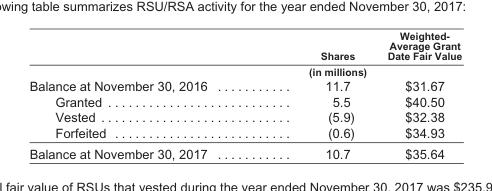table: (28, 28, 461, 160)
table column: (28, 28, 257, 160), (257, 28, 376, 160), (376, 28, 461, 160)
table column header: (28, 28, 461, 77)
table row: (28, 28, 461, 77), (28, 124, 461, 142), (28, 142, 461, 160), (28, 77, 461, 93), (28, 108, 461, 124), (28, 93, 461, 108)
